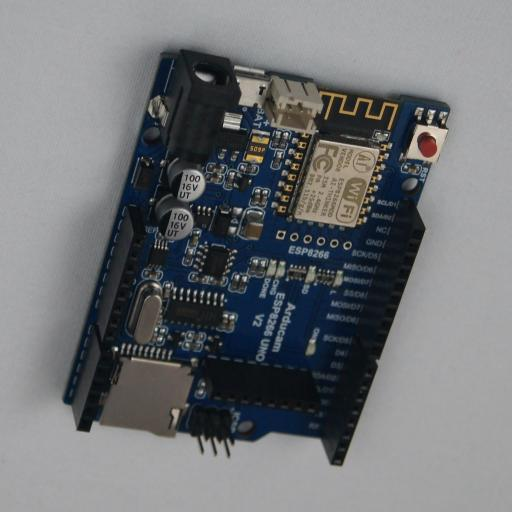Arduino Uno Camera Shield: (62, 47, 450, 466)
